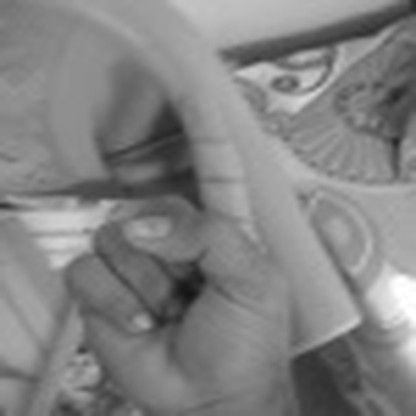d: (62, 84, 279, 416)
